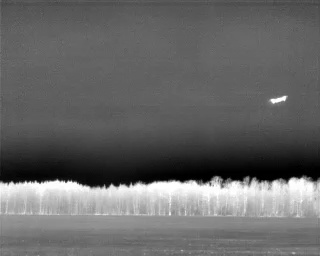DRONE: (266, 90, 291, 109)
